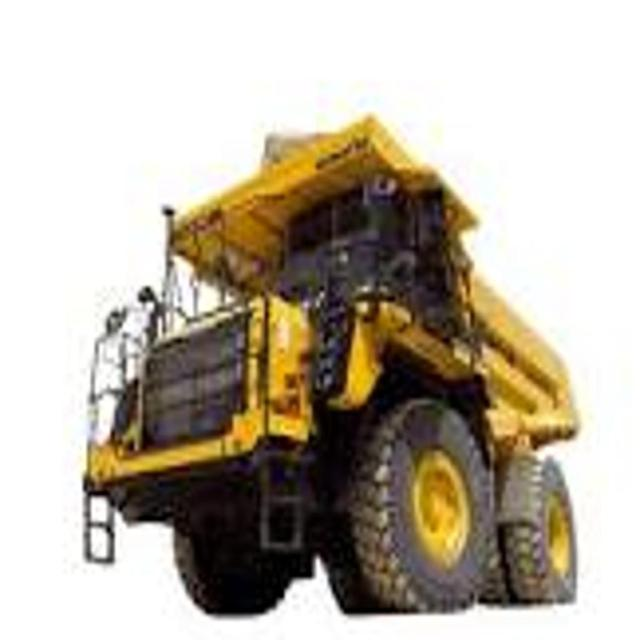dump_truck: (84, 105, 585, 618)
